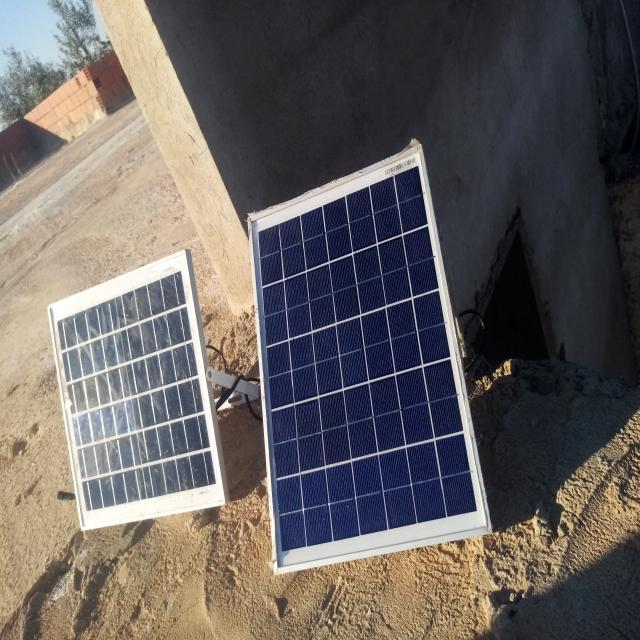faulty: (48, 249, 225, 531)
no faulty: (248, 146, 491, 572)
